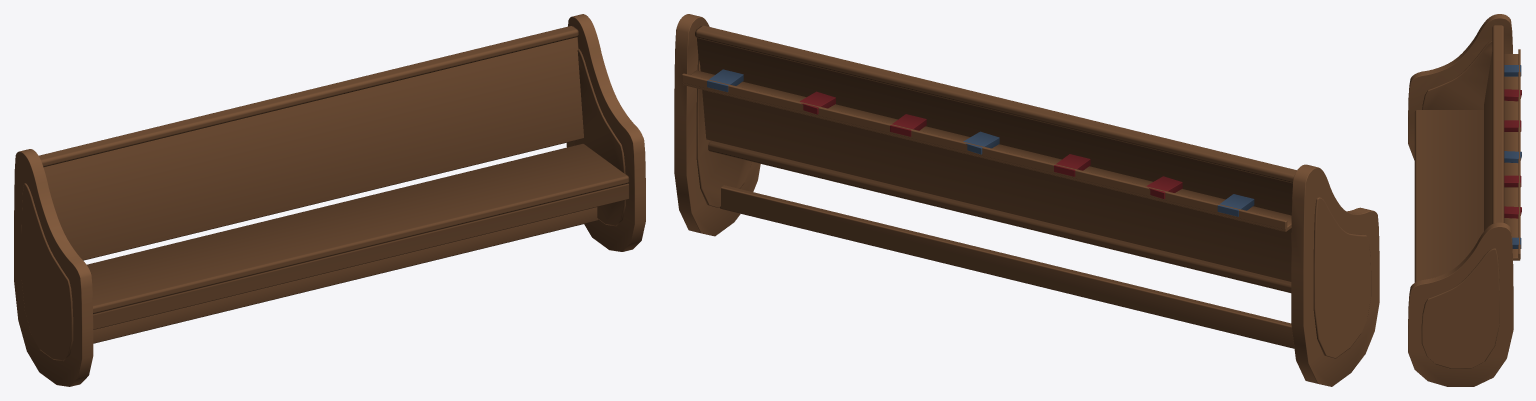
Rendered from pew.glb.
3 views of the same model, side by side, from view 1: azimuth 30°, elevation 25°; view 2: azimuth 150°, elevation 25°; view 3: azimuth 270°, elevation 25° (orthographic). The views are drawn at different scales.
Parts seen in each view (by area): view 1: pew; view 2: pew; view 3: pew.
Boxes of the visible parts, box(x1,y1,x2,y2) form: pew: box(14, 14, 645, 386); pew: box(674, 14, 1379, 386); pew: box(1408, 14, 1521, 386).
Bounding box in the file's own units: 2.98 × 1.04 × 0.6697.
